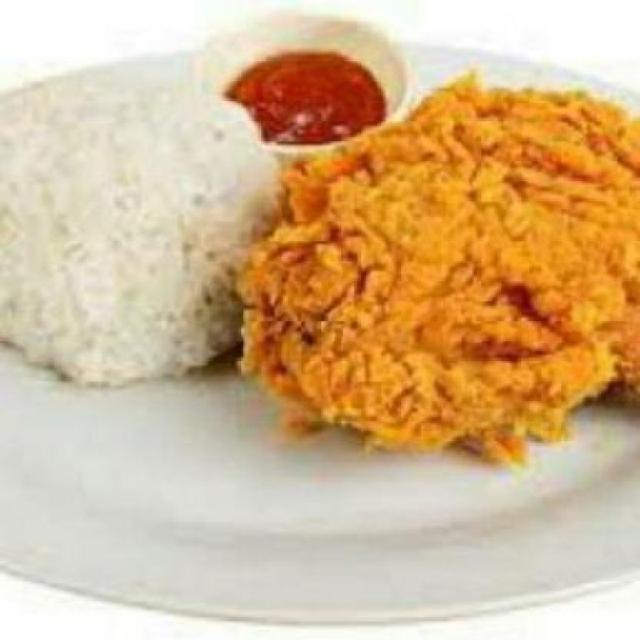Chicken -Fried Chicken-: (235, 74, 640, 468), (0, 66, 282, 389)
